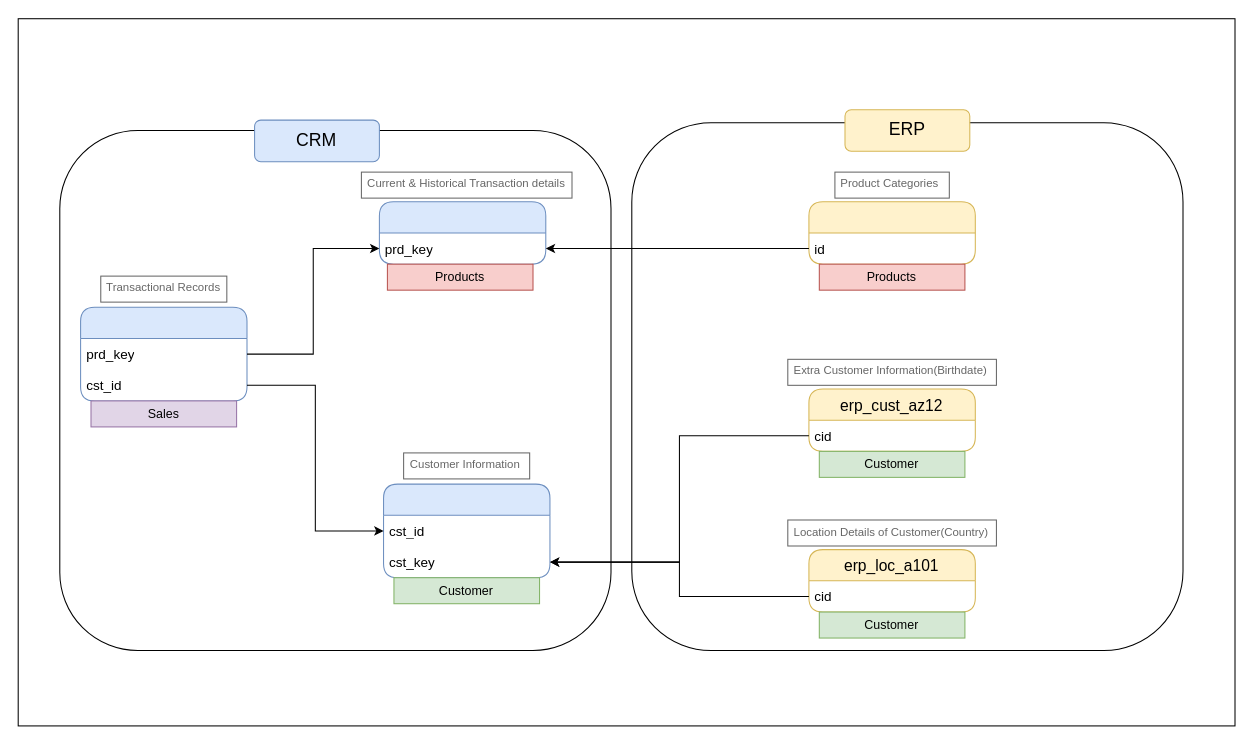
Image size: 1253x744. Some labels were removed from this diagram. The box of each missing label's shape, as (x1, y1, x2, y2) in pixels:
crm_cust_info: (383, 483, 550, 578)
crm_prd_info: (378, 201, 546, 264)
crm_sales_details: (80, 306, 247, 401)
erp_px_cat_g1v2: (808, 201, 975, 264)
